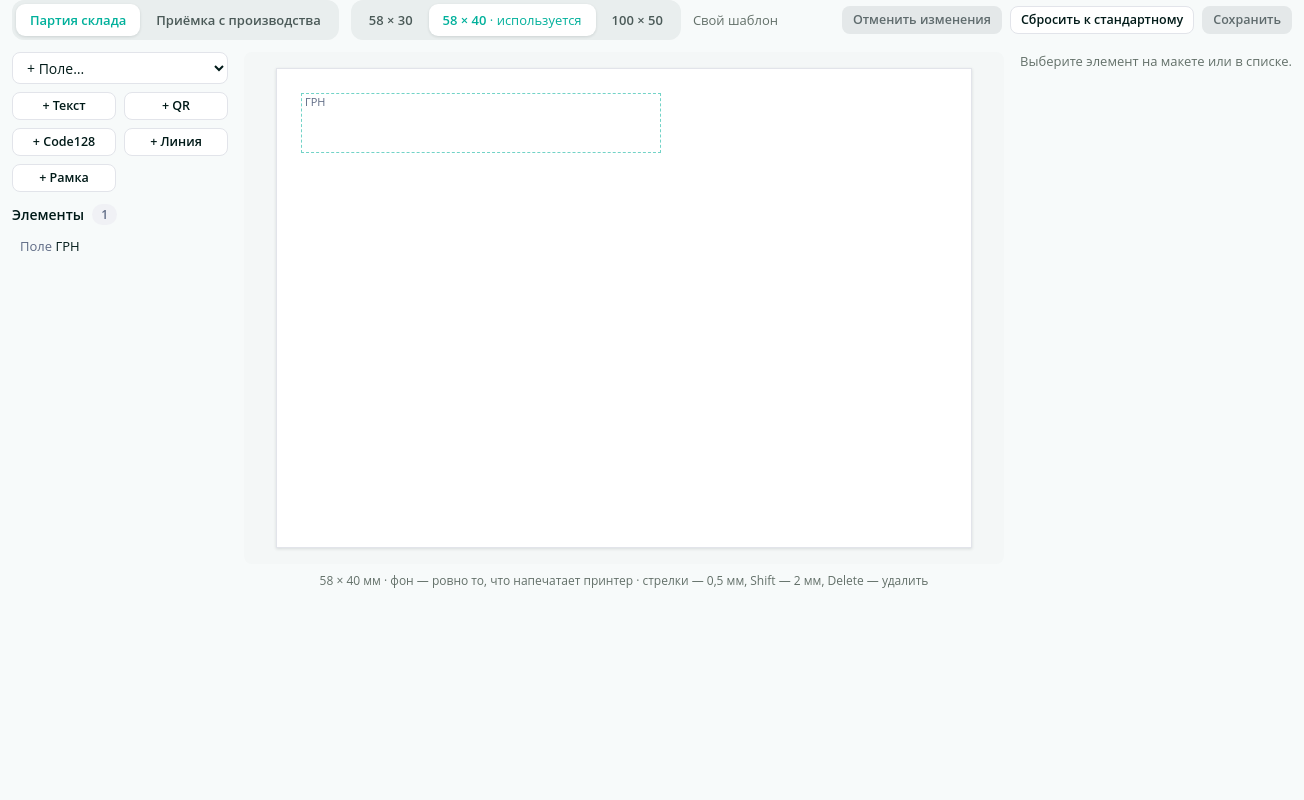
Test: a stale version answers «Шаблон изменили — обновите»; «Обновить» takes the server's template
The image size is (1304, 800).
Click the button with aria-label "Поле: ГРН". click: click(315, 102)
box: [301,93,661,153]
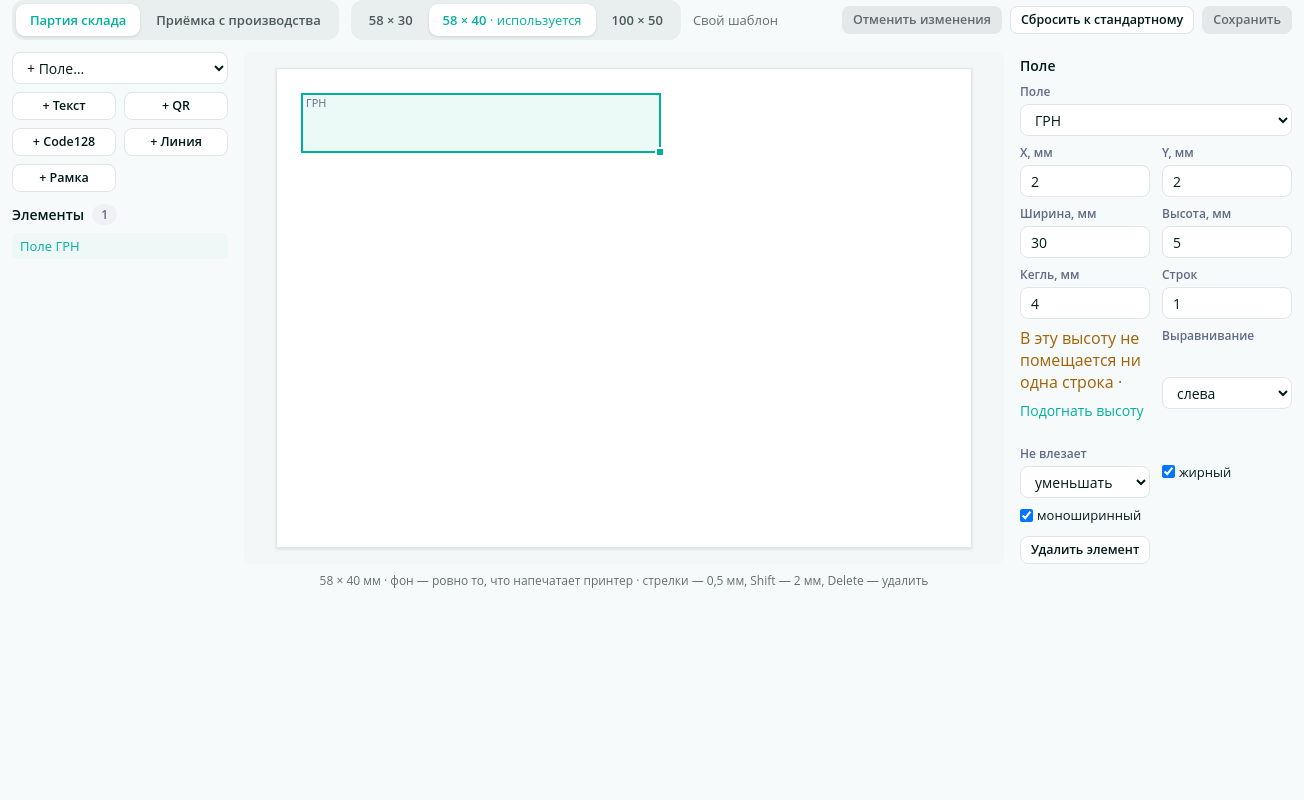
Replace the text in the field labelled "Кегль, мм" with "8". click: (1085, 303)
box: [1020,287,1150,319]
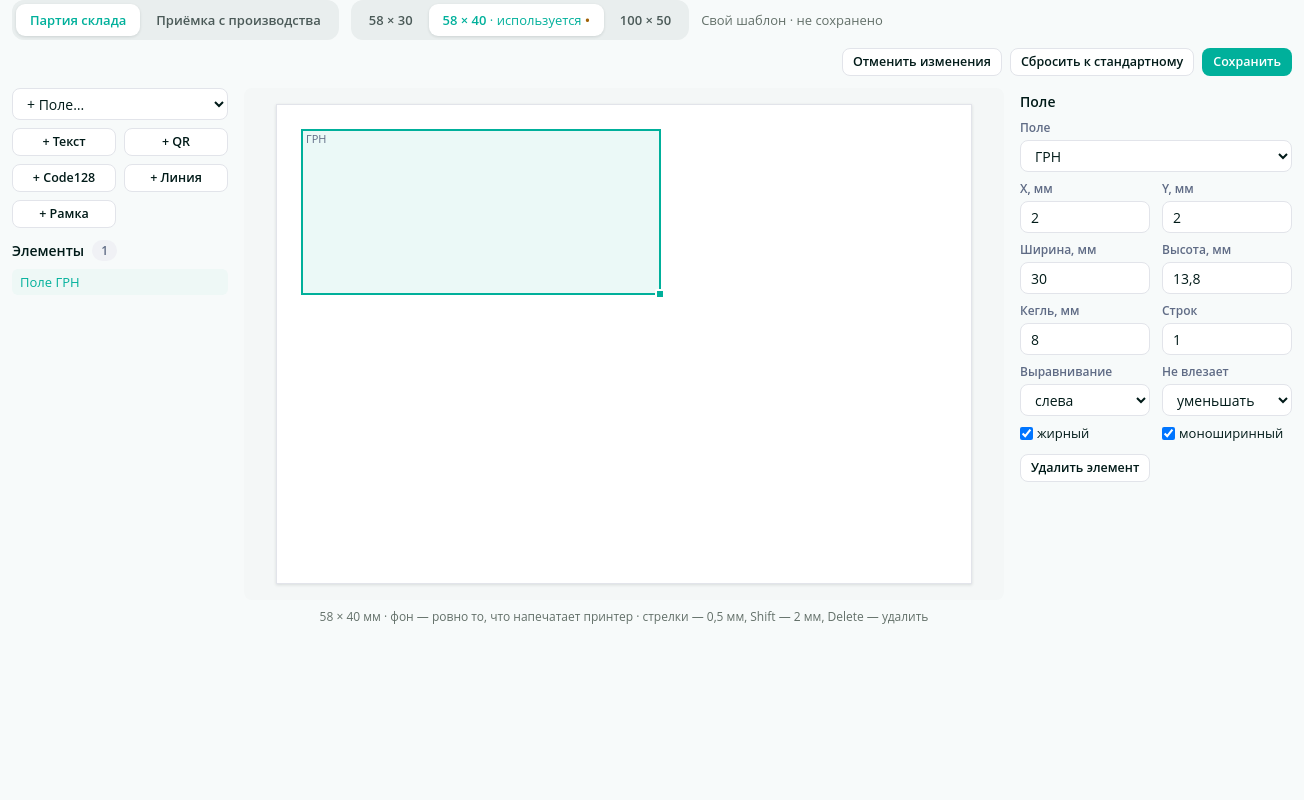
Click the button "Сохранить". click: click(1247, 62)
box: [1202,48,1292,76]
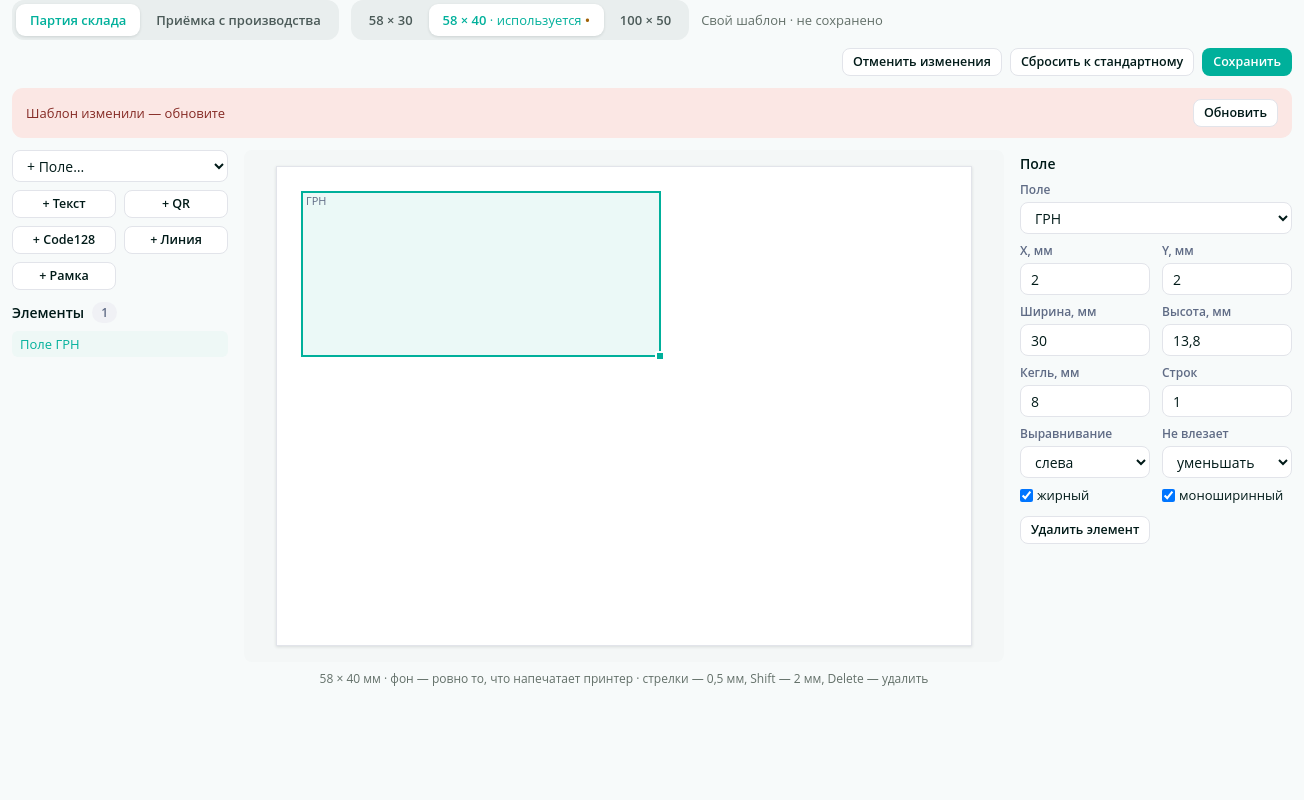
Expected: the message shows "Шаблон изменили — обновите", [26,104,225,122]
Click the button "Обновить". click: click(1235, 113)
box: [1193,99,1278,127]
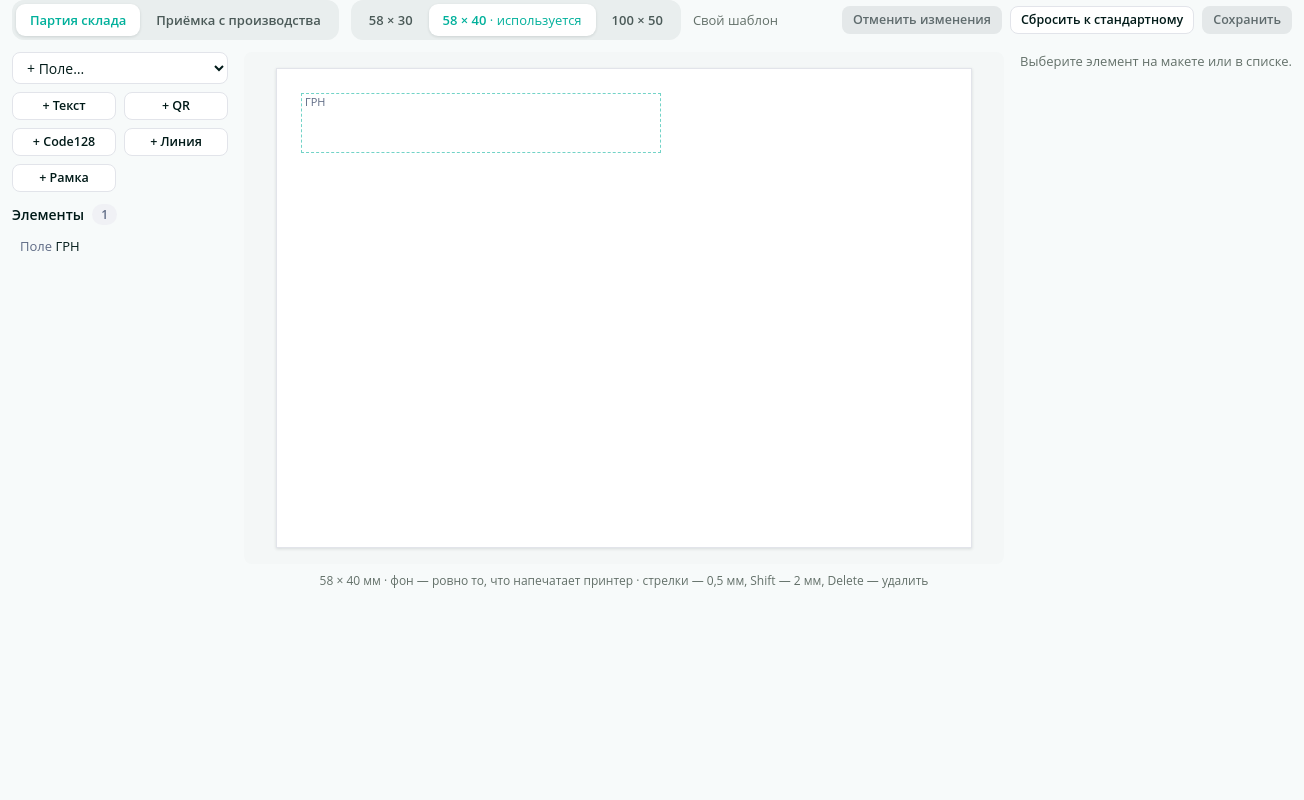
Expected: the text "не сохранено" is gone
